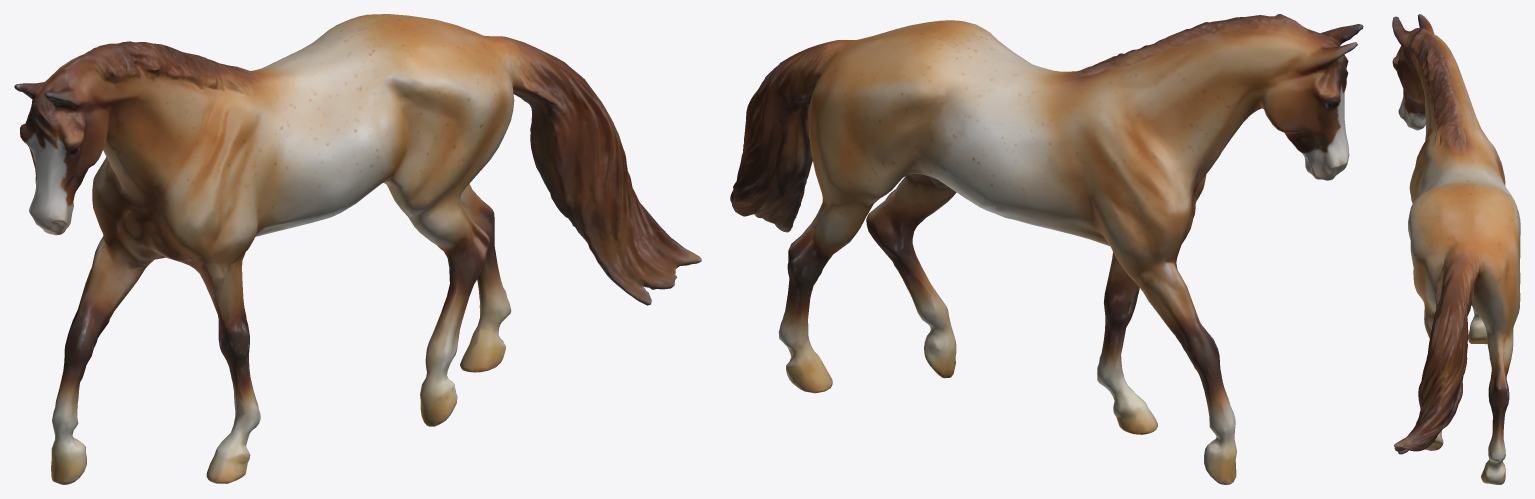
File: Breyer_Horse_Of_The_Year_2015.glb
3 views of the same model, side by side, from view 1: azimuth 30°, elevation 25°; view 2: azimuth 150°, elevation 25°; view 3: azimuth 270°, elevation 25° (orthographic). The views are drawn at different scales.
Visible parts, largest first — view 1: Breyer_Horse_Of_The_Year_2015; view 2: Breyer_Horse_Of_The_Year_2015; view 3: Breyer_Horse_Of_The_Year_2015.
Part boxes in pixels (bbox=[...]): Breyer_Horse_Of_The_Year_2015: bbox=[14, 14, 701, 484]; Breyer_Horse_Of_The_Year_2015: bbox=[730, 14, 1363, 484]; Breyer_Horse_Of_The_Year_2015: bbox=[1392, 14, 1520, 484].
Bounding box in the file's own units: 0.2311 × 0.1532 × 0.0577.
1 material, 1 textured.
